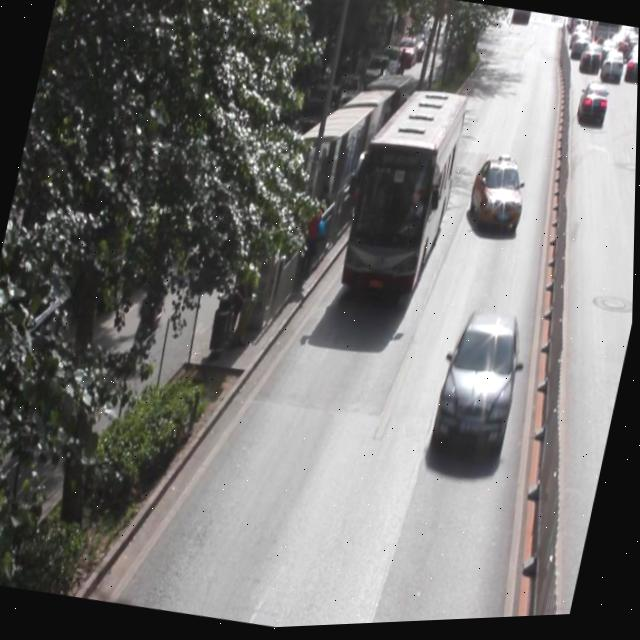car: (432, 305, 529, 464), (464, 155, 530, 244)
van: (338, 82, 471, 304)
